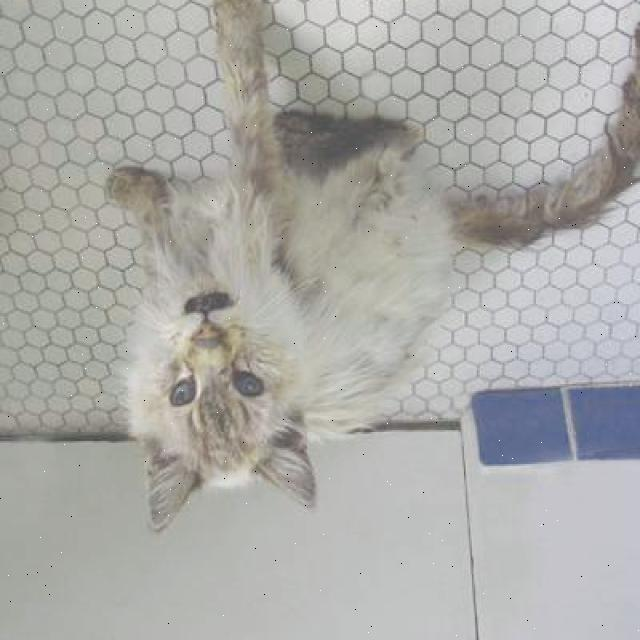Cat: (79, 271, 336, 543)
